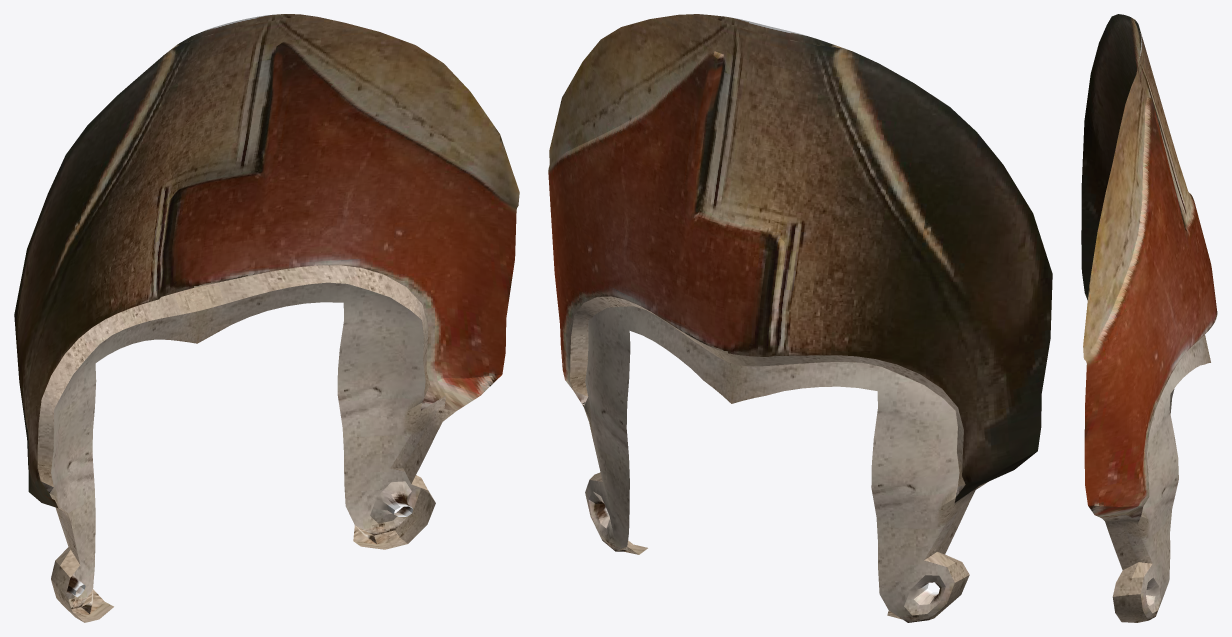
File: mascara manta cortada.fbx
3 renders of one model, left to right at view 1: azimuth 30°, elevation 25°; view 2: azimuth 150°, elevation 25°; view 3: azimuth 270°, elevation 25°, orthographic. The views are drawn at different scales.
Parts seen in each view (by area): view 1: mascara manta; view 2: mascara manta; view 3: mascara manta.
Boxes of the visible parts, left/top/right/bottom form: mascara manta: left=14, top=14, right=519, bottom=622; mascara manta: left=548, top=14, right=1052, bottom=622; mascara manta: left=1081, top=14, right=1217, bottom=622.
Bounding box in the file's own units: 23.49 × 5.99 × 24.9.
